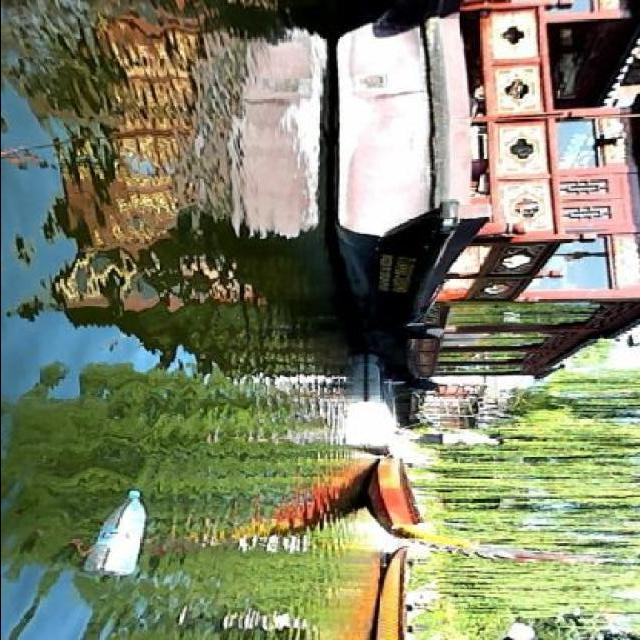Bottle: (96, 483, 150, 581)
